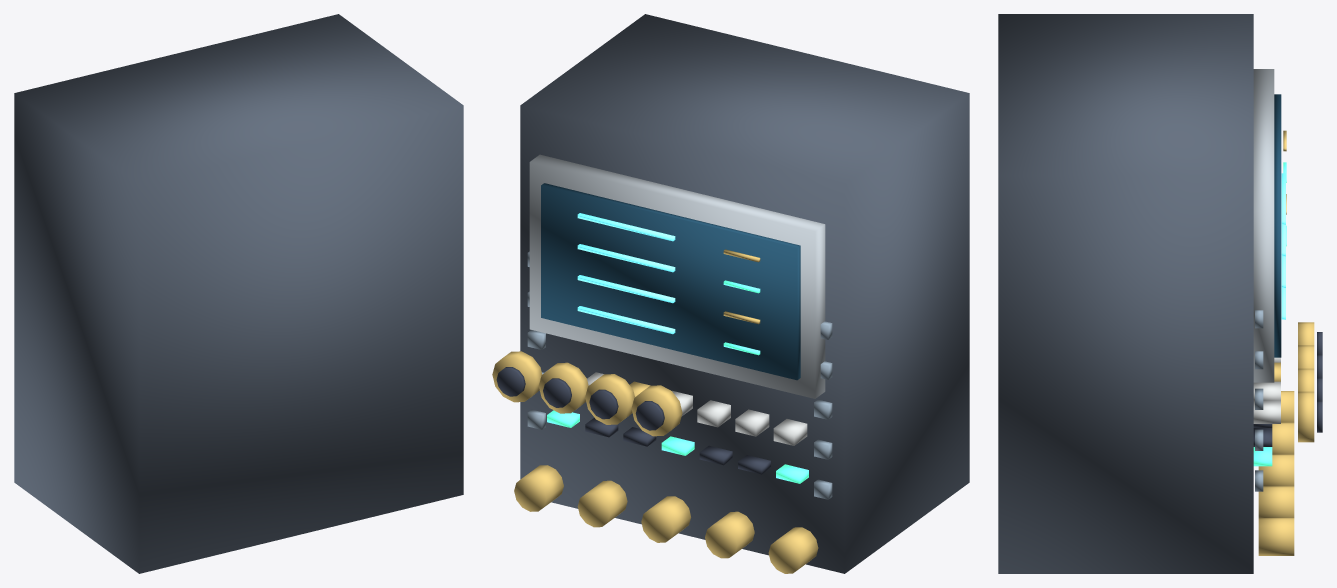
Rendered from L86_35_RobotTrajectorySafetySupervisor_Fitted.fbx.
3 views of the same model, side by side, from view 1: azimuth 30°, elevation 25°; view 2: azimuth 150°, elevation 25°; view 3: azimuth 270°, elevation 25° (orthographic). The views are drawn at different scales.
Parts seen in each view (by area): view 1: L86_RobotTrajectorySafetySupervisor_Static__tint1F2633; view 2: L86_RobotTrajectorySafetySupervisor_Static__tint1F2633, L86_RobotTrajectorySafetySupervisor_Static__tint061D36, L86_RobotTrajectorySafetySupervisor_Static__tintA1B2C2, L86_RobotTrajectorySafetySupervisor_Static__tintF2B038, L86_RobotTrajectorySafetySupervisor_Static__tint0F141F, L86_RobotTrajectorySafetySupervisor_Static__tintD9E0E0, L86_RobotTrajectorySafetySupervisor_Static__tint29D4F5, L86_RobotTrajectorySafetySupervisor_Static__tint597591, L86_RobotTrajectorySafetySupervisor_Static__tint1AE88F; view 3: L86_RobotTrajectorySafetySupervisor_Static__tint1F2633, L86_RobotTrajectorySafetySupervisor_Static__tintF2B038, L86_RobotTrajectorySafetySupervisor_Static__tintA1B2C2, L86_RobotTrajectorySafetySupervisor_Static__tint061D36, L86_RobotTrajectorySafetySupervisor_Static__tintD9E0E0, L86_RobotTrajectorySafetySupervisor_Static__tint597591, L86_RobotTrajectorySafetySupervisor_Static__tint0F141F, L86_RobotTrajectorySafetySupervisor_Static__tint29D4F5, L86_RobotTrajectorySafetySupervisor_Static__tint1AE88F.
Part boxes in pixels (x1,y1,x2,y2): L86_RobotTrajectorySafetySupervisor_Static__tint1F2633: [14, 14, 463, 573]; L86_RobotTrajectorySafetySupervisor_Static__tint1F2633: [520, 14, 969, 573]; L86_RobotTrajectorySafetySupervisor_Static__tint061D36: [541, 183, 800, 380]; L86_RobotTrajectorySafetySupervisor_Static__tintA1B2C2: [529, 154, 825, 398]; L86_RobotTrajectorySafetySupervisor_Static__tintF2B038: [492, 249, 818, 573]; L86_RobotTrajectorySafetySupervisor_Static__tint0F141F: [496, 367, 770, 474]; L86_RobotTrajectorySafetySupervisor_Static__tintD9E0E0: [545, 367, 807, 445]; L86_RobotTrajectorySafetySupervisor_Static__tint29D4F5: [577, 213, 675, 334]; L86_RobotTrajectorySafetySupervisor_Static__tint597591: [527, 251, 832, 499]; L86_RobotTrajectorySafetySupervisor_Static__tint1AE88F: [547, 280, 808, 483]; L86_RobotTrajectorySafetySupervisor_Static__tint1F2633: [998, 14, 1253, 573]; L86_RobotTrajectorySafetySupervisor_Static__tintF2B038: [1258, 130, 1314, 555]; L86_RobotTrajectorySafetySupervisor_Static__tintA1B2C2: [1253, 69, 1274, 382]; L86_RobotTrajectorySafetySupervisor_Static__tint061D36: [1274, 94, 1281, 357]; L86_RobotTrajectorySafetySupervisor_Static__tintD9E0E0: [1253, 357, 1280, 423]; L86_RobotTrajectorySafetySupervisor_Static__tint597591: [1255, 310, 1263, 491]; L86_RobotTrajectorySafetySupervisor_Static__tint0F141F: [1253, 332, 1322, 446]; L86_RobotTrajectorySafetySupervisor_Static__tint29D4F5: [1281, 173, 1285, 319]; L86_RobotTrajectorySafetySupervisor_Static__tint1AE88F: [1253, 162, 1286, 466].
Bounding box in the file's own units: 9.4 × 10.78 × 7.95.
